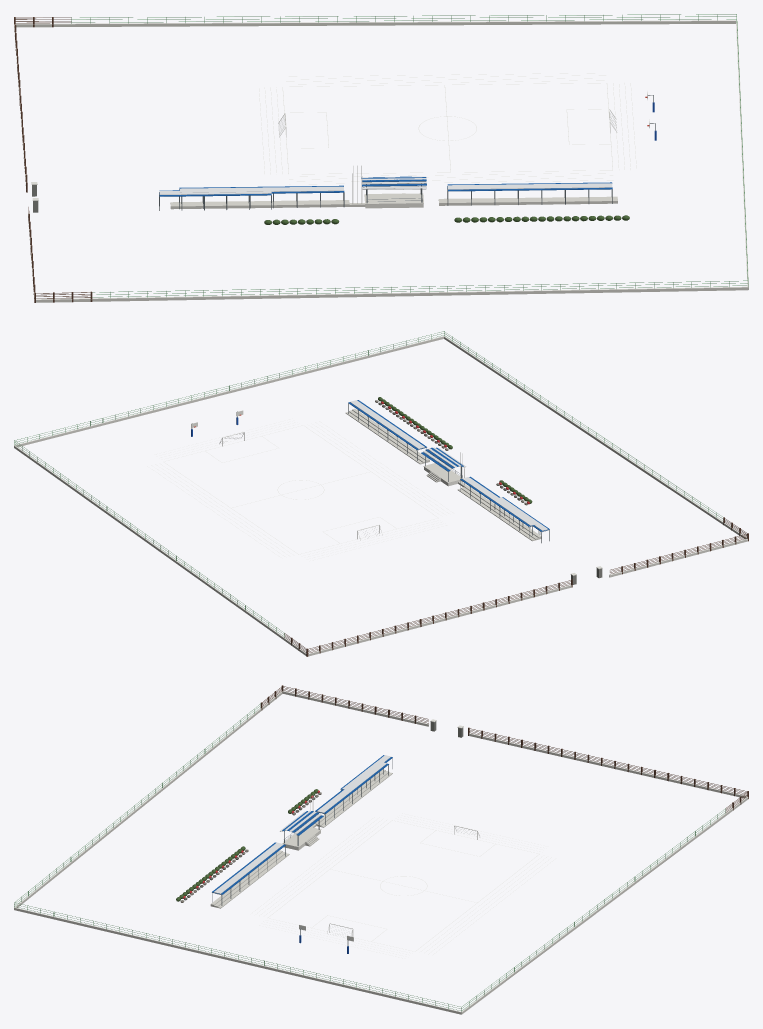
3 views of the same model, one above another, from view 1: azimuth 30°, elevation 25°; view 2: azimuth 150°, elevation 25°; view 3: azimuth 270°, elevation 25° (orthographic). The views are drawn at different scales.
Visible parts, largest first — view 1: prop_boundary-fence, prop_grandstand-canopy, prop_assembly-stand, prop_track-lines, prop_flowerbeds, prop_field-lines, prop_walkway-canopy; view 2: prop_boundary-fence, prop_grandstand-canopy, prop_assembly-stand, prop_flowerbeds; view 3: prop_boundary-fence, prop_grandstand-canopy, prop_assembly-stand, prop_flowerbeds, prop_field-lines, prop_track-lines.
Boxes of the visible parts, x1,y1,x2,y2 form: prop_boundary-fence: [14, 14, 748, 302]; prop_grandstand-canopy: [170, 182, 617, 209]; prop_assembly-stand: [361, 176, 426, 208]; prop_track-lines: [259, 73, 636, 184]; prop_flowerbeds: [264, 215, 629, 224]; prop_field-lines: [282, 83, 612, 174]; prop_walkway-canopy: [159, 190, 271, 210]; prop_boundary-fence: [14, 331, 748, 656]; prop_grandstand-canopy: [345, 400, 541, 541]; prop_assembly-stand: [421, 447, 466, 486]; prop_flowerbeds: [375, 397, 532, 505]; prop_boundary-fence: [14, 685, 748, 1014]; prop_grandstand-canopy: [210, 761, 392, 908]; prop_assembly-stand: [280, 810, 323, 850]; prop_flowerbeds: [176, 789, 321, 902]; prop_field-lines: [268, 820, 539, 951]; prop_track-lines: [252, 813, 553, 958].
Bounding box in the file's own units: 168 × 8.04 × 162.
